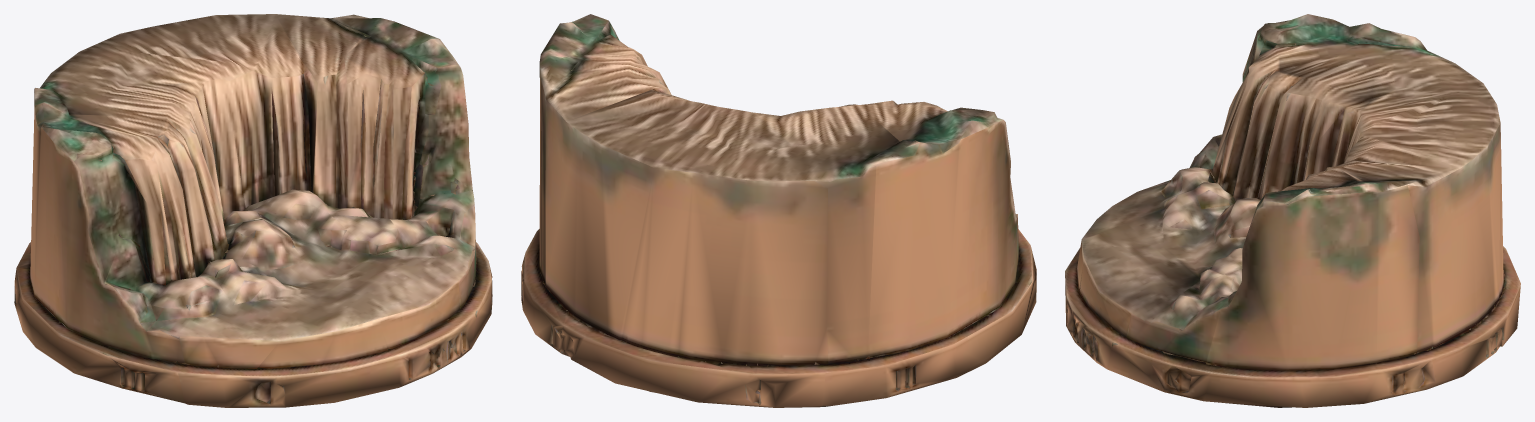
Rendered from niagara_falls.glb.
3 views of the same model, side by side, from view 1: azimuth 30°, elevation 25°; view 2: azimuth 150°, elevation 25°; view 3: azimuth 270°, elevation 25° (orthographic). The views are drawn at different scales.
Visible parts, largest first — view 1: Mesh_0; view 2: Mesh_0; view 3: Mesh_0.
Boxes of the visible parts, x1,y1,x2,y2 form: Mesh_0: (14,14,492,407); Mesh_0: (521,14,1036,407); Mesh_0: (1065,14,1520,407).
Bounding box in the file's own units: 1.9 × 0.9869 × 1.9.
1 material, 1 textured.
